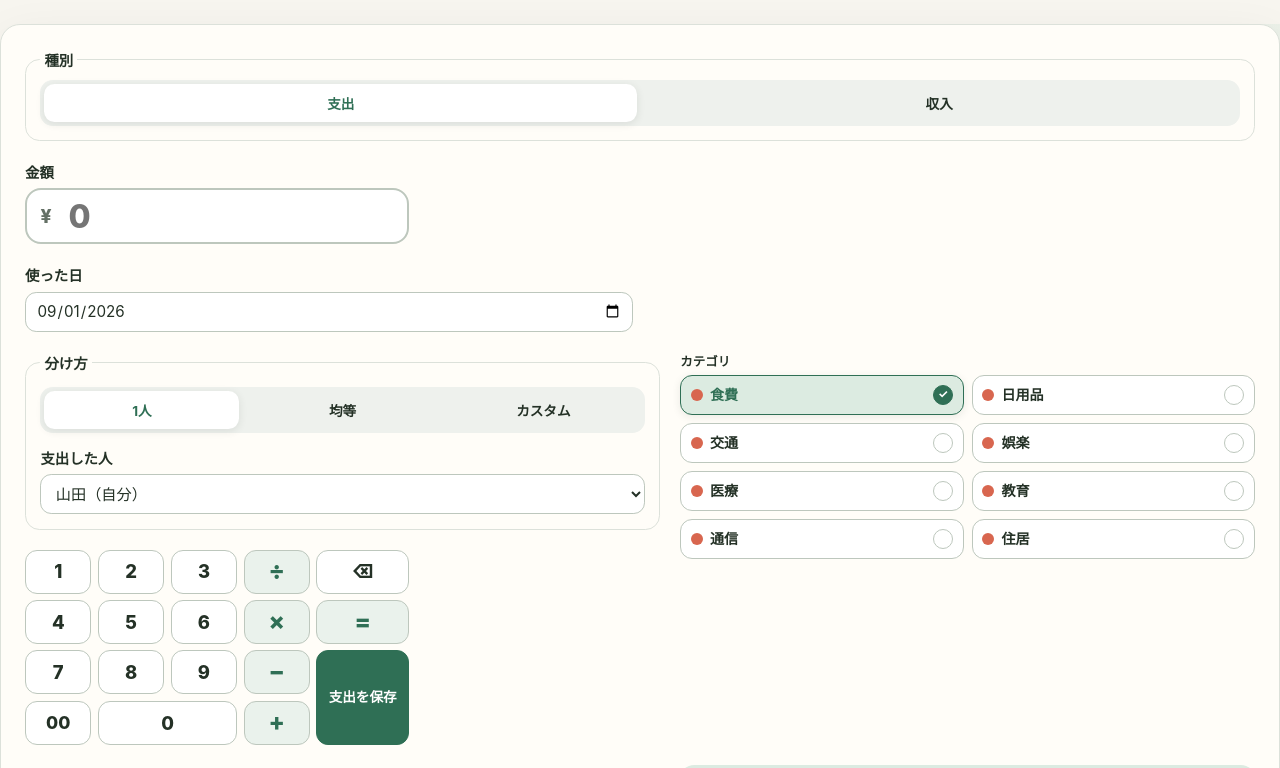
ExpenseForm の金額テンキー (TXN-014) › OSの仮想キーボードを開かず、テンキーで金額を組み立てる (AC-TXN-014-1)
Click the button "1" at (58, 572), box 25,550 -> 92,594
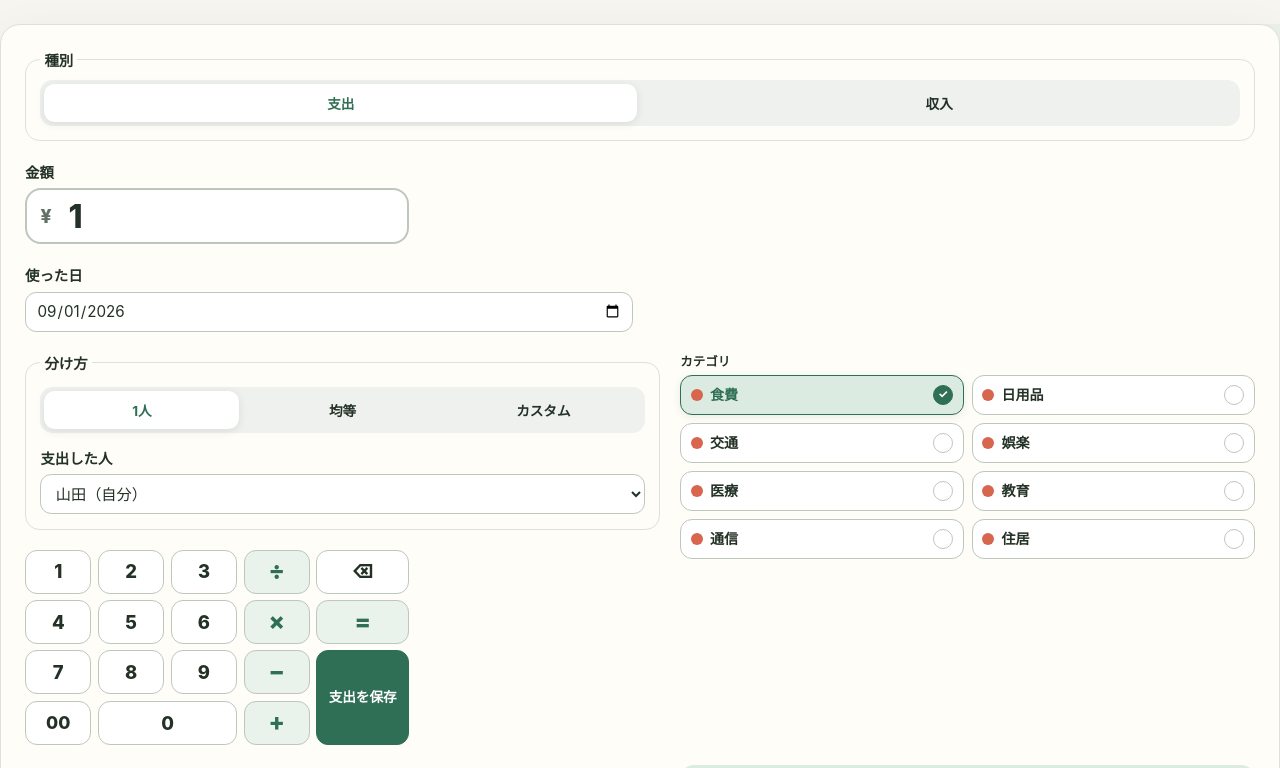
Click the button "2" at (131, 572), box 98,550 -> 164,594
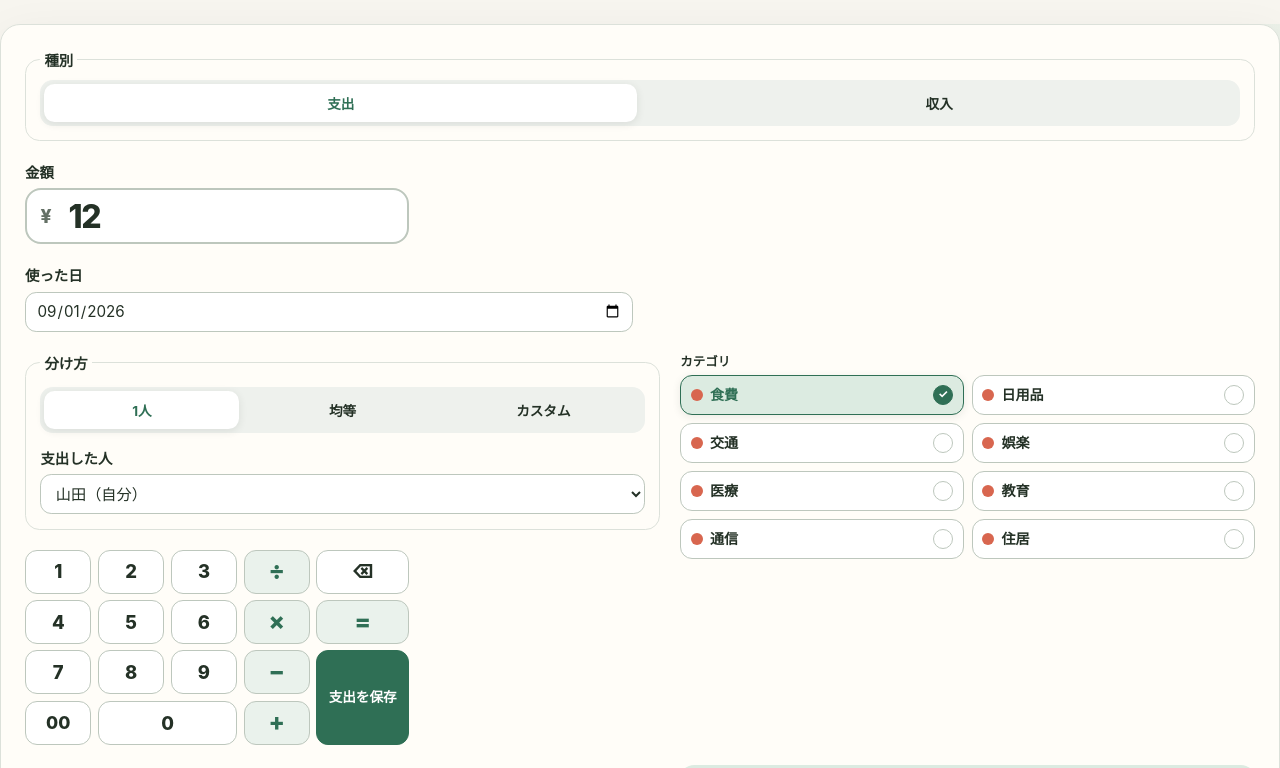
Click the button "00" at (58, 723), box 25,701 -> 92,745
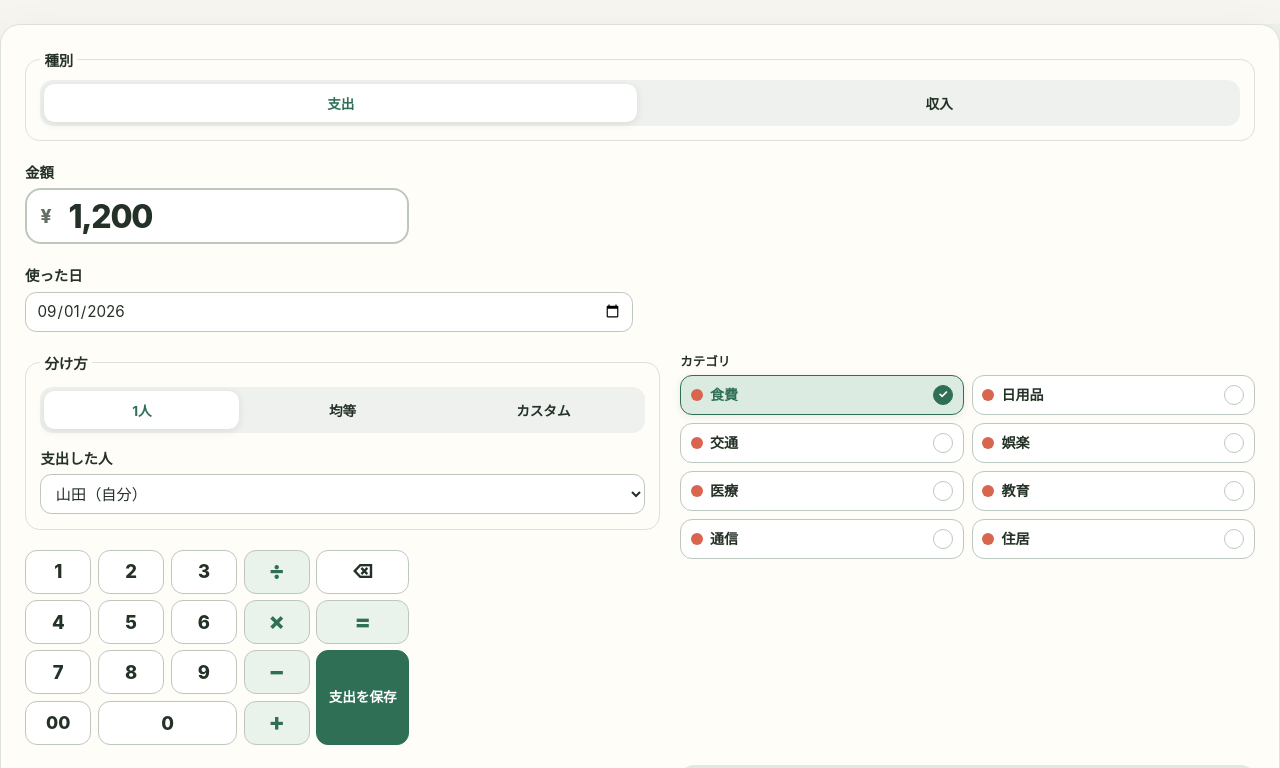
Expected: the field labelled "金額" holds "1,200", 58,190 -> 393,242
